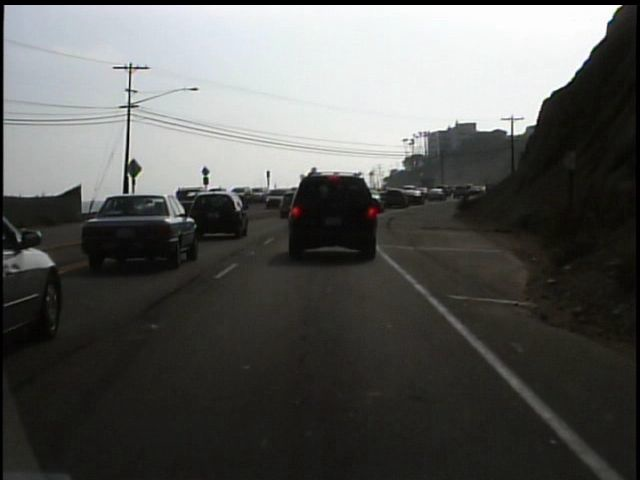person: (172, 183, 187, 212)
